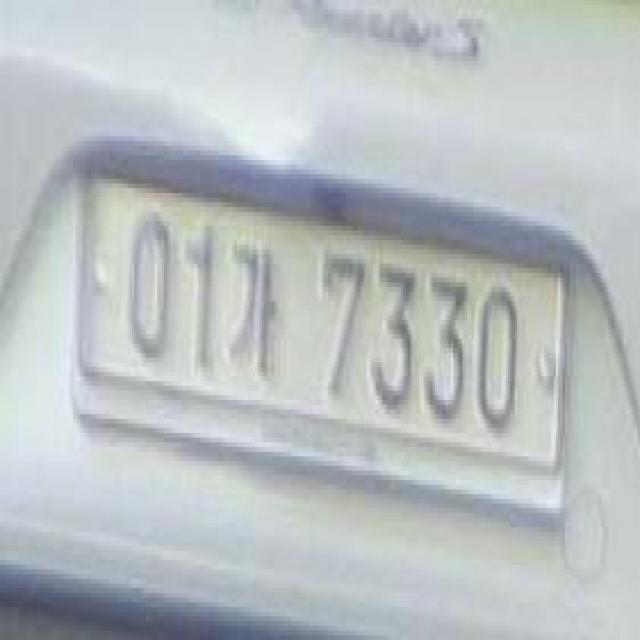illegal_plate: (72, 153, 568, 526)
